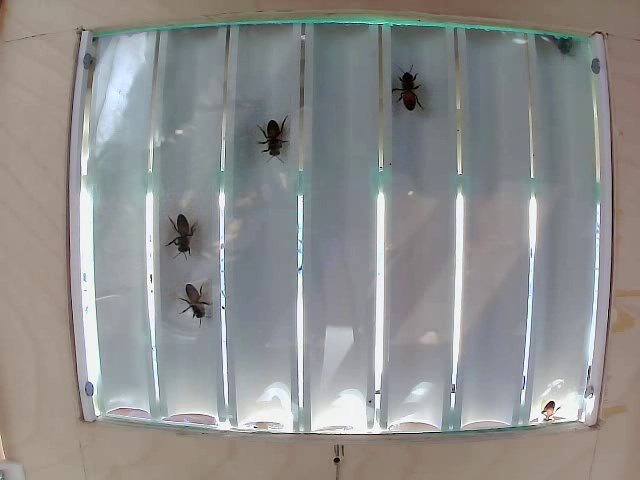bee: (176, 274, 230, 334), (262, 108, 302, 173), (156, 222, 212, 263), (394, 62, 423, 115)
